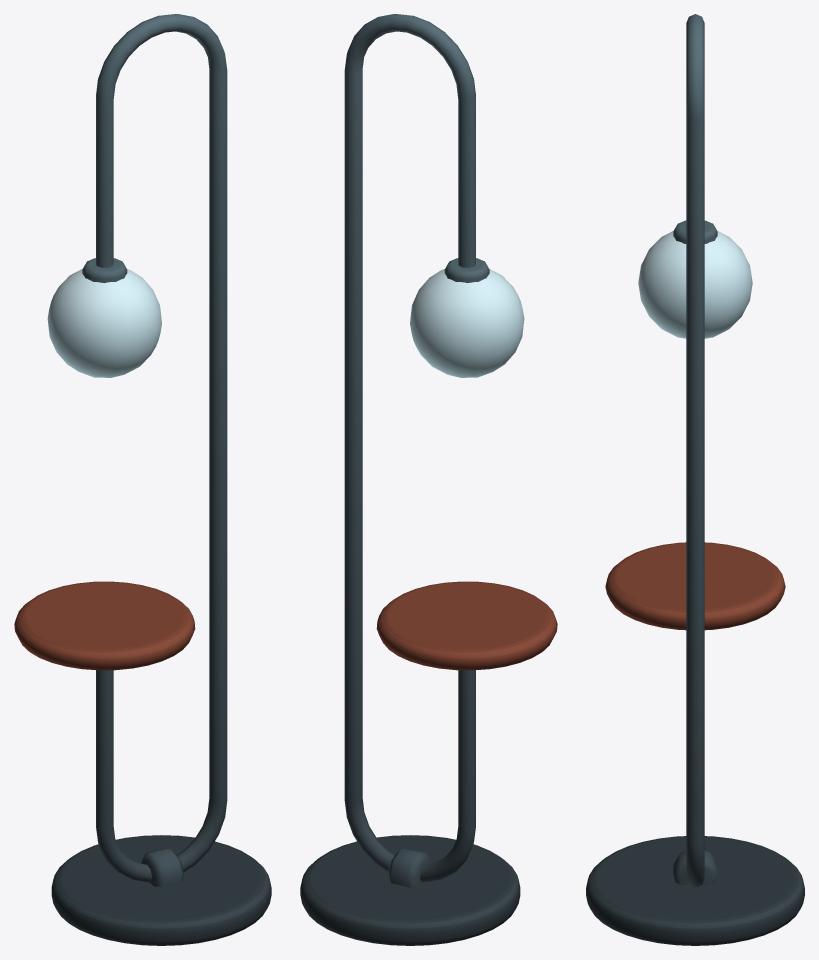
The model's file is Light_14.glb.
3 views of the same model, side by side, from view 1: azimuth 30°, elevation 25°; view 2: azimuth 150°, elevation 25°; view 3: azimuth 270°, elevation 25° (orthographic).
Parts seen in each view (by area): view 1: Light_14; view 2: Light_14; view 3: Light_14.
Part boxes in pixels (box(x1,y1,x2,y2)): Light_14: box(14, 14, 271, 945); Light_14: box(300, 14, 557, 945); Light_14: box(586, 14, 804, 945).
Size of the model in its own units: 0.4861 by 1.79 by 0.4018.
Materials: 1 (1 with a texture image).
